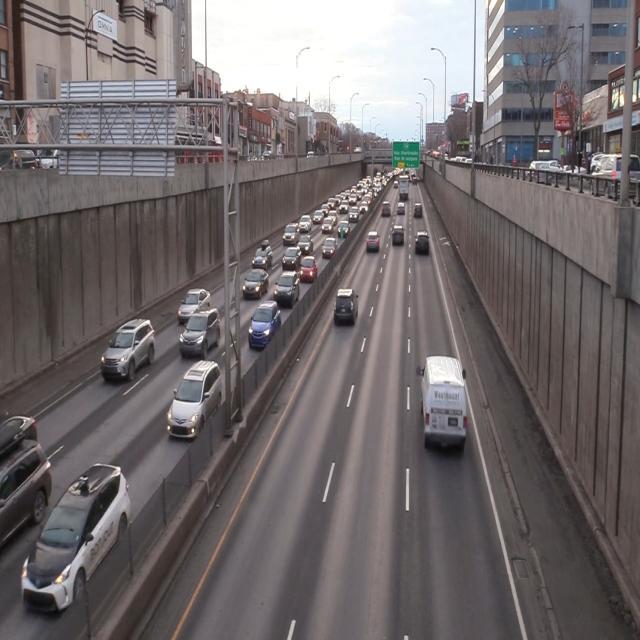Car: (19, 464, 134, 614), (414, 358, 473, 452), (164, 360, 222, 450), (101, 316, 157, 387), (180, 302, 222, 360), (247, 299, 284, 352), (332, 277, 363, 331), (177, 284, 214, 320), (275, 269, 301, 309), (241, 270, 270, 303)
